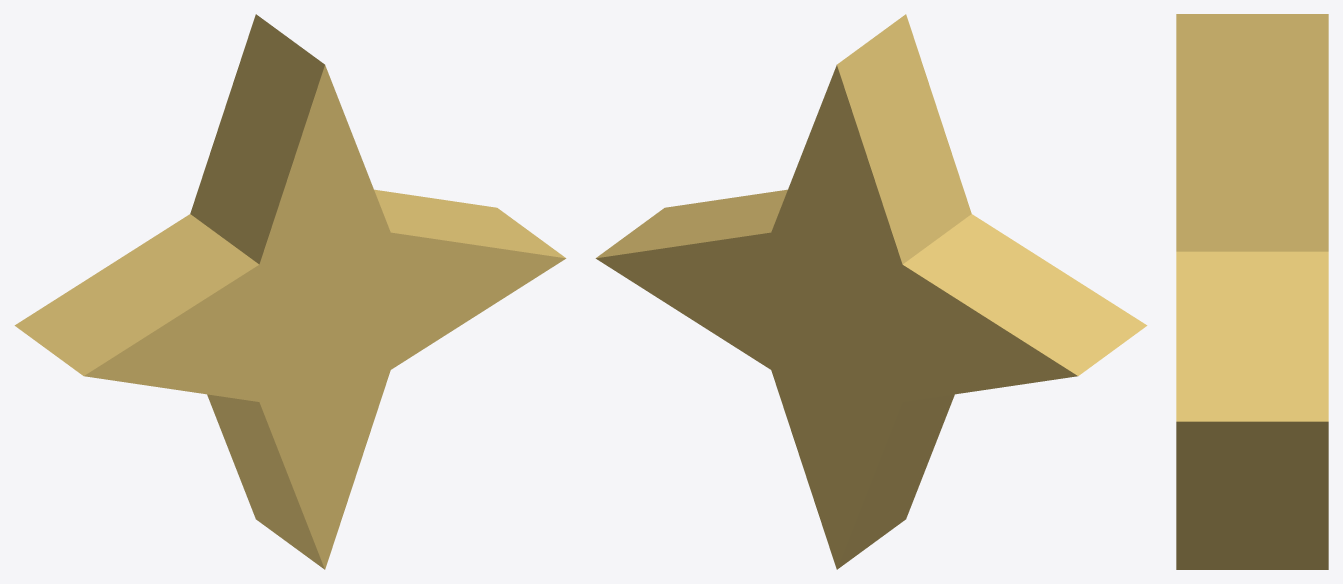
The model's file is star_4.fbx.
The picture shows the model from 3 angles, left to right: view 1: azimuth 30°, elevation 25°; view 2: azimuth 150°, elevation 25°; view 3: azimuth 270°, elevation 25°; orthographic projection. The views are drawn at different scales.
Visible parts, largest first — view 1: Circle; view 2: Circle; view 3: Circle.
Boxes of the visible parts, x1,y1,x2,y2 form: Circle: (14, 14, 566, 569); Circle: (595, 14, 1147, 569); Circle: (1176, 14, 1328, 569).
Size of the model in its own units: 200 by 200 by 49.66.
